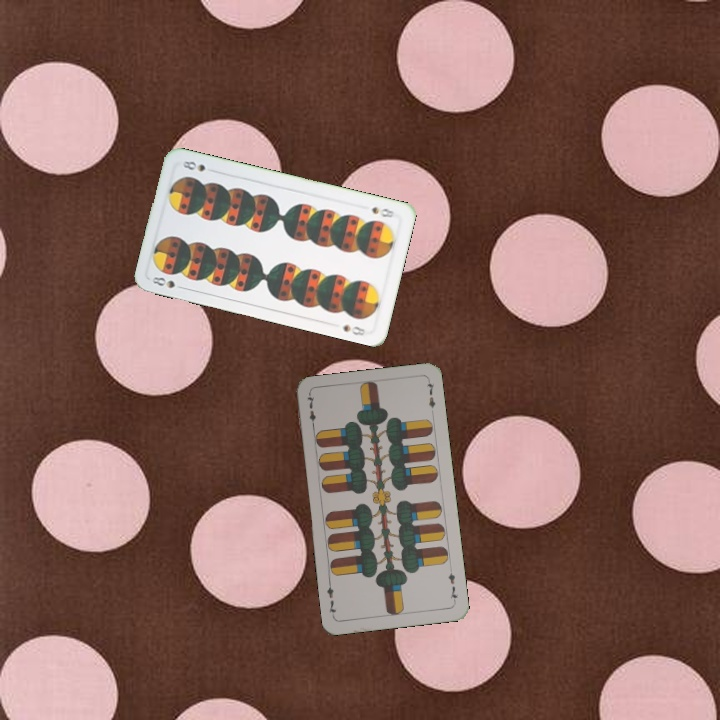E7: (303, 391, 319, 432), (444, 569, 460, 605)
S8: (148, 272, 188, 292), (368, 203, 397, 220)
